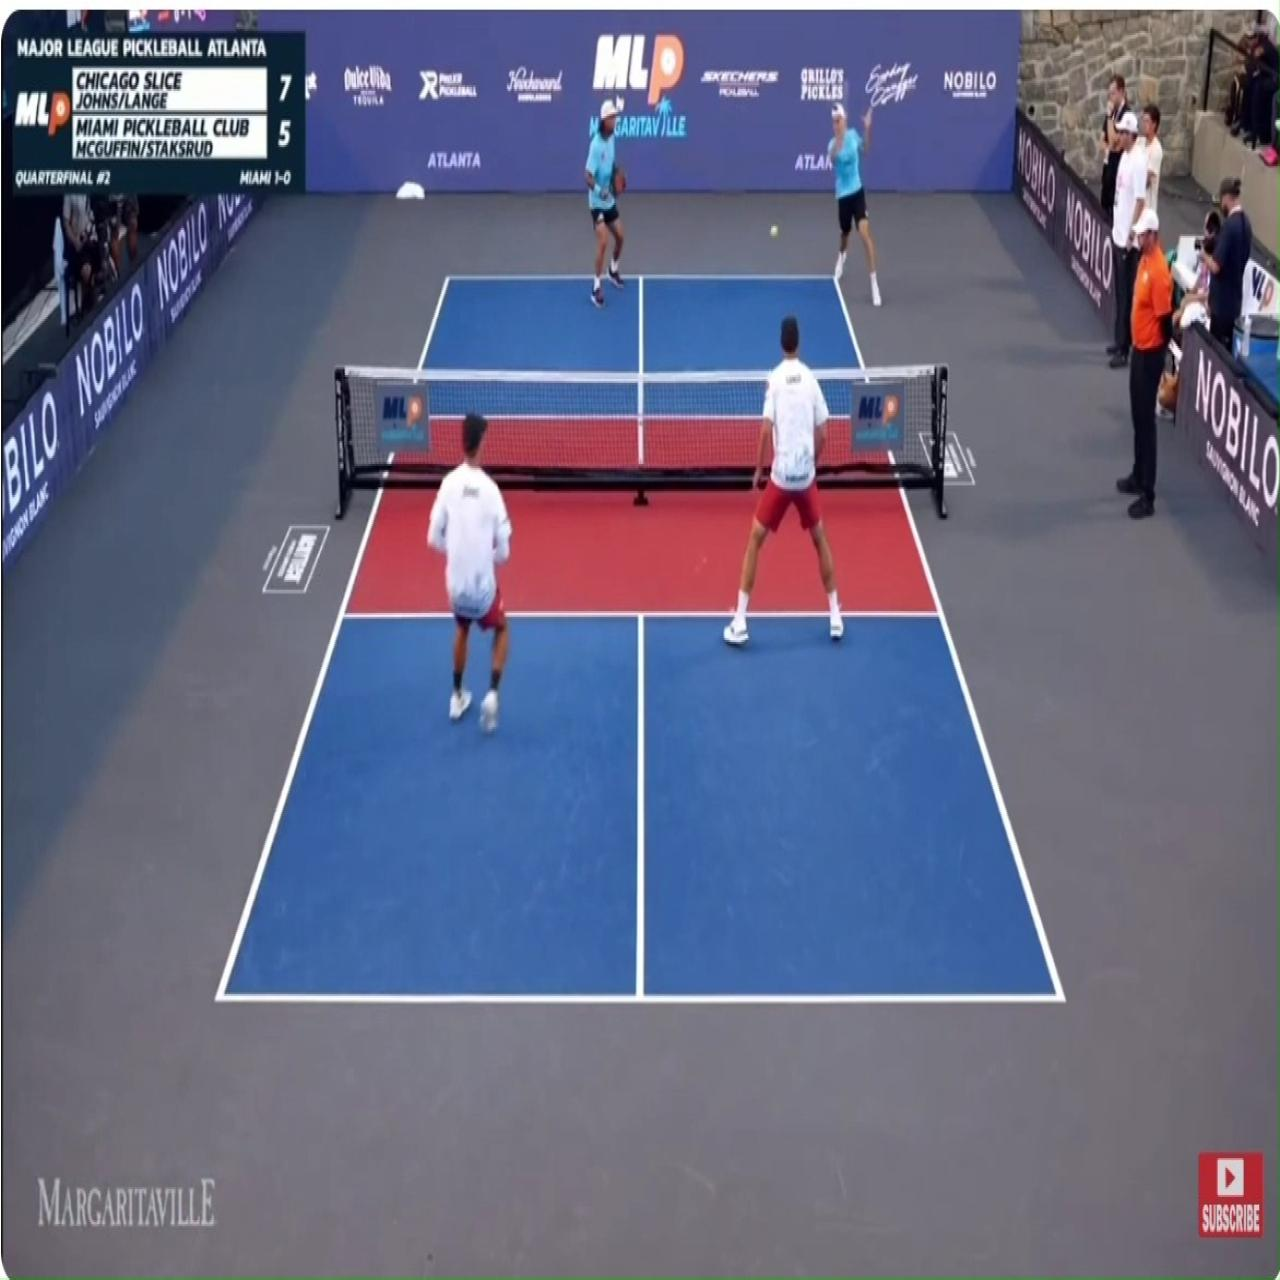pickleball: (769, 224, 778, 238)
